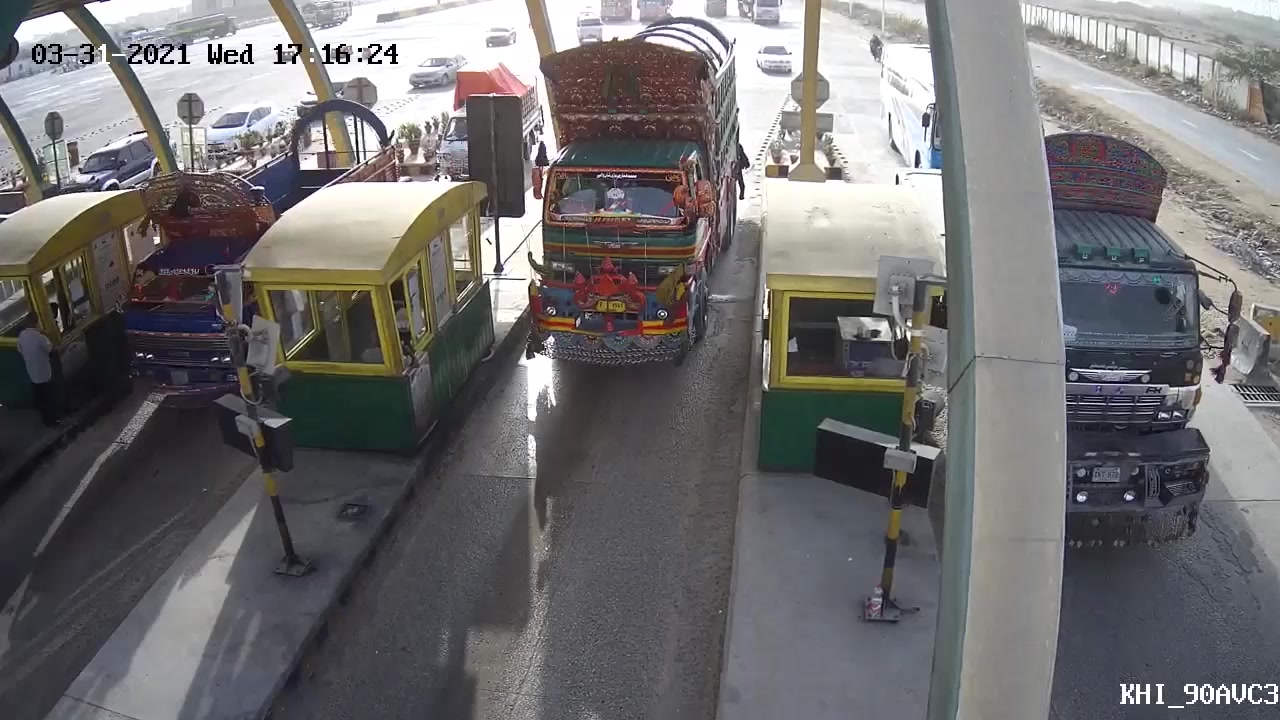F5: (513, 15, 754, 374)
